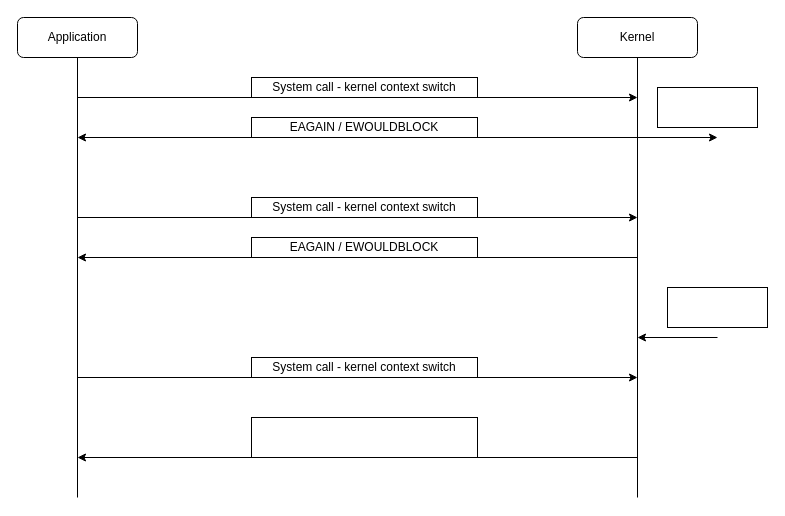
Some shapes in this 785 by 516 pixel diagram are drawn without their labels. The shapes that lost their labels are listed below. From the top down, each one's centre as x and y in pixels, then its label:
At (x=707, y=107): "Initiate read I/O".
At (x=717, y=307): "Read response".
At (x=364, y=437): "Data movement from kernel space to user space".
